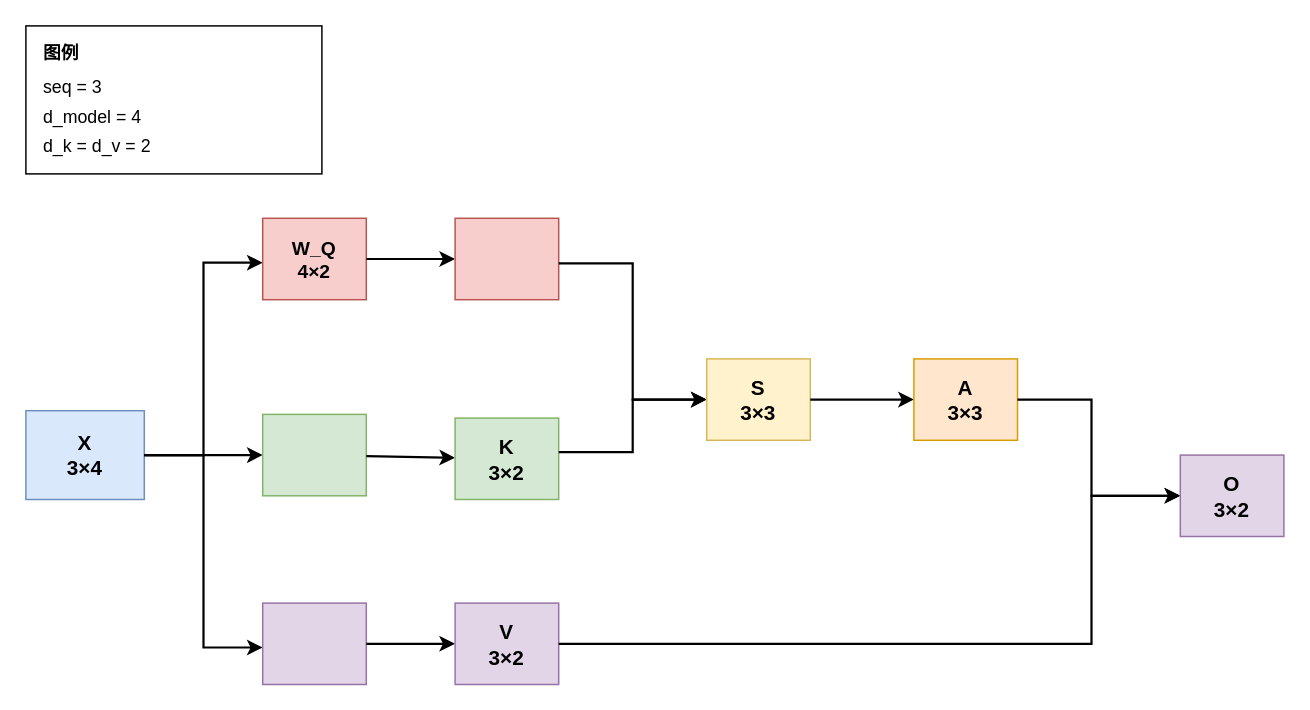
This 1310x710 diagram has some shape labels left out. The shapes that lost their labels are listed below. From the top down, each one's centre as x and y in pixels, then its label:
At (x=506, y=258): "Q 3×2".
At (x=313, y=454): "W_K 4×2".
At (x=313, y=643): "W_V 4×2".
